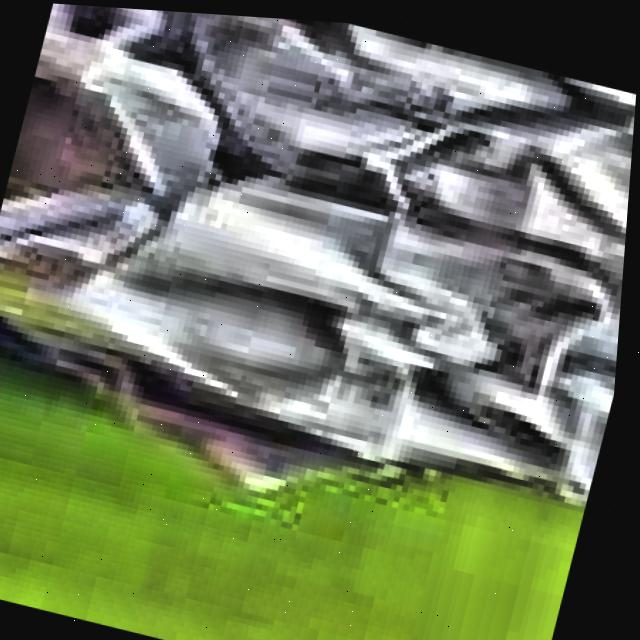paper: (0, 3, 637, 491)
